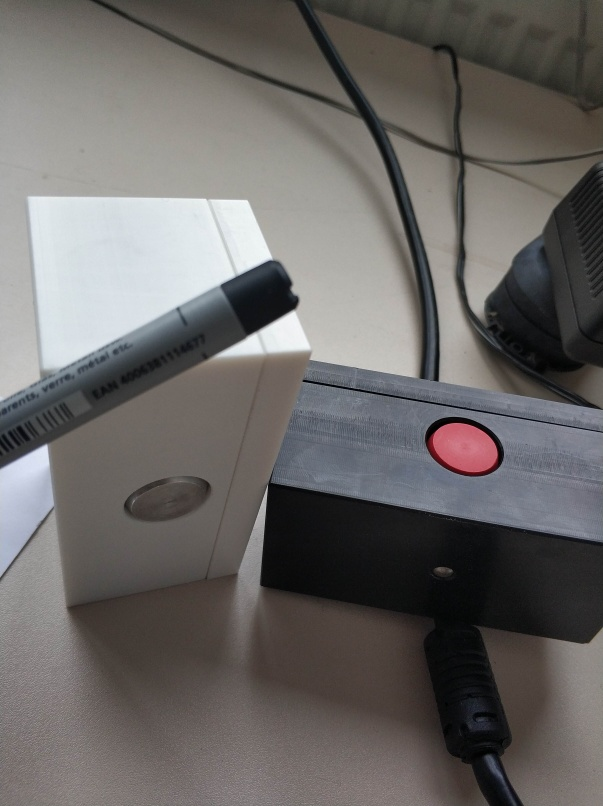black+black+red: (256, 357, 603, 645)
white+white+silver: (22, 190, 313, 615)
